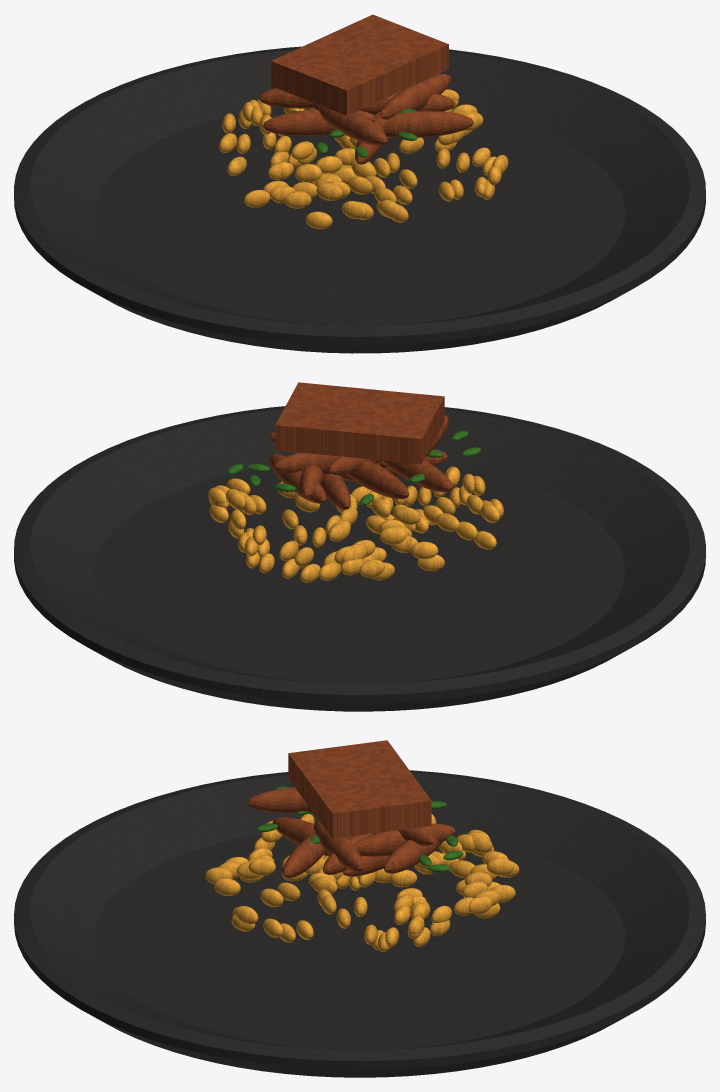
File: lechona-autor.glb
3 renders of one model, top to bottom at view 1: azimuth 30°, elevation 25°; view 2: azimuth 150°, elevation 25°; view 3: azimuth 270°, elevation 25°, orthographic.
Parts seen in each view (by area): view 1: part0, part2, part1, part3; view 2: part0, part2, part1, part3; view 3: part0, part2, part1, part3.
Boxes of the visible parts, bbox=[...] form: part0: bbox=[14, 46, 705, 353]; part2: bbox=[258, 14, 473, 164]; part1: bbox=[219, 89, 508, 229]; part3: bbox=[269, 81, 417, 157]; part0: bbox=[14, 406, 705, 711]; part2: bbox=[268, 382, 452, 509]; part1: bbox=[208, 466, 503, 582]; part3: bbox=[227, 430, 480, 504]; part0: bbox=[14, 770, 705, 1077]; part2: bbox=[247, 740, 455, 878]; part1: bbox=[205, 813, 519, 952]; part3: bbox=[247, 786, 463, 872].
Size of the model in its own units: 0.3 by 0.089 by 0.3.
4 materials, 4 textured.
